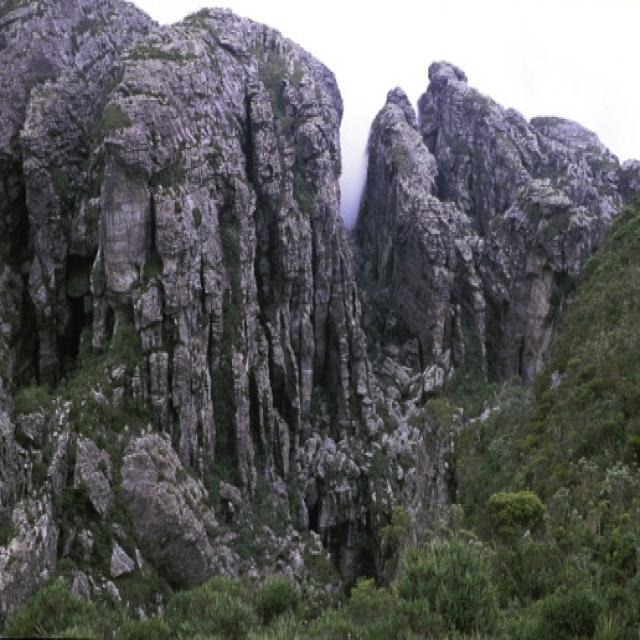Metamorphic: (1, 2, 356, 625), (361, 46, 634, 364)
